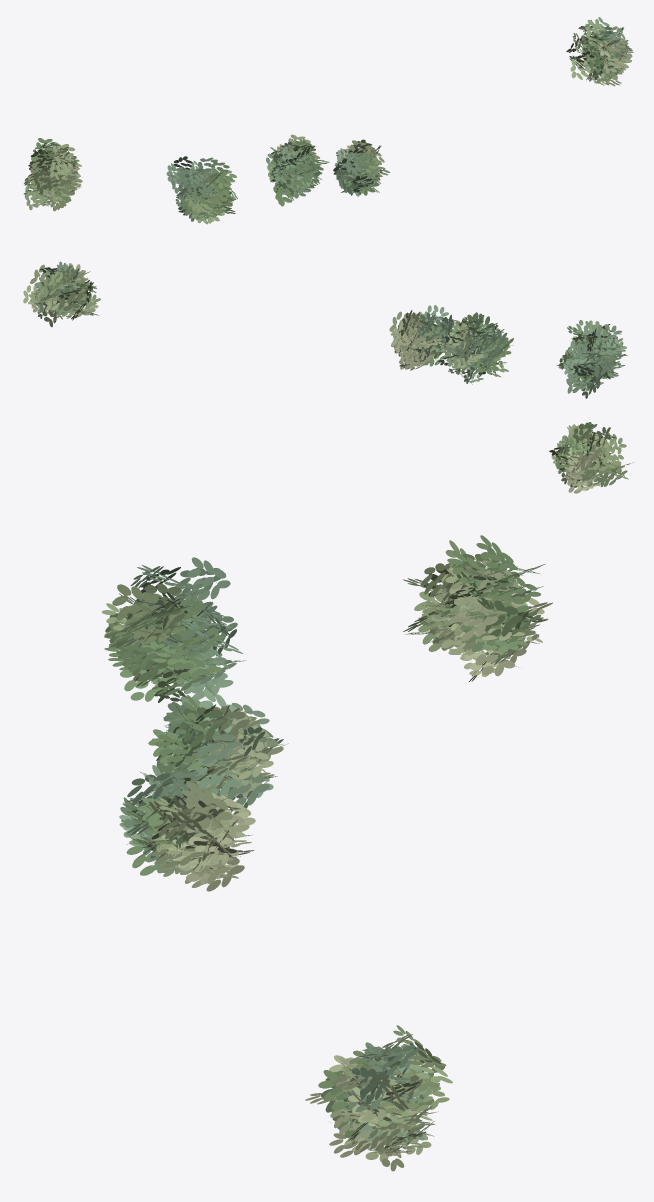
Rendered from campus-tree-5_-4-far.glb.
3 renders of one model, top to bottom at view 1: azimuth 30°, elevation 25°; view 2: azimuth 150°, elevation 25°; view 3: azimuth 270°, elevation 25°, orthographic. The views are drawn at different scales.
Visible parts, largest first — view 1: Campus leaf canopy; view 2: Campus leaf canopy; view 3: Campus leaf canopy.
Part boxes in pixels (box(x1,y1,x2,y2)): Campus leaf canopy: box(24, 17, 633, 224); Campus leaf canopy: box(23, 261, 633, 493); Campus leaf canopy: box(102, 535, 552, 1171).
Size of the model in its own units: 51.65 by 7.9 by 16.97.
Materials: 1 (1 with a texture image).
